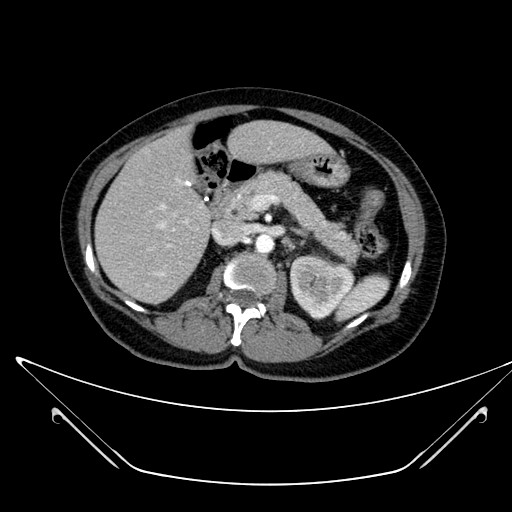clipe: (202, 194, 209, 201), (184, 180, 191, 186)
